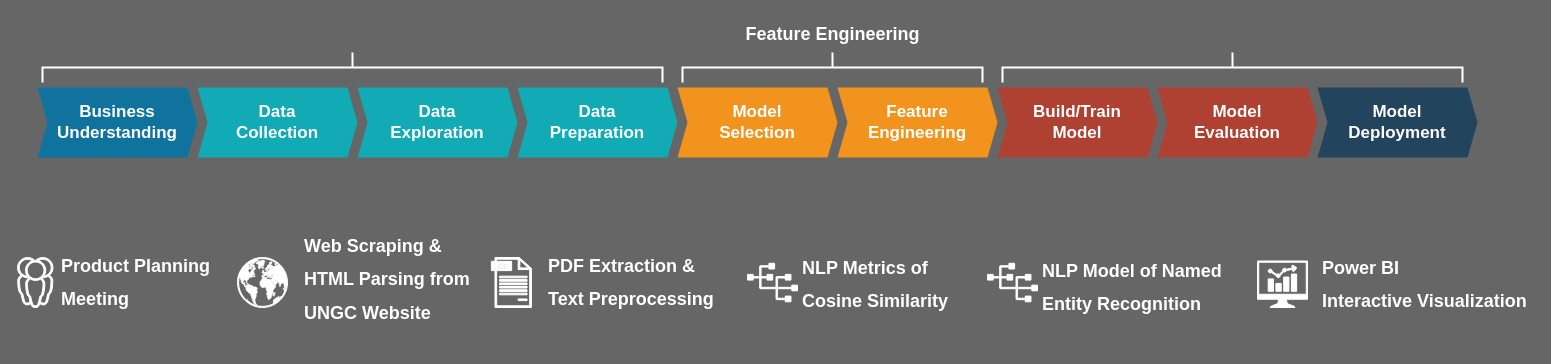
Some shapes in this 1551 by 364 pixel diagram are drawn without their labels. Each missing label, with the centre of its shape:
Modelling: point 1232,67
Prediction Engineering: point 352,67
